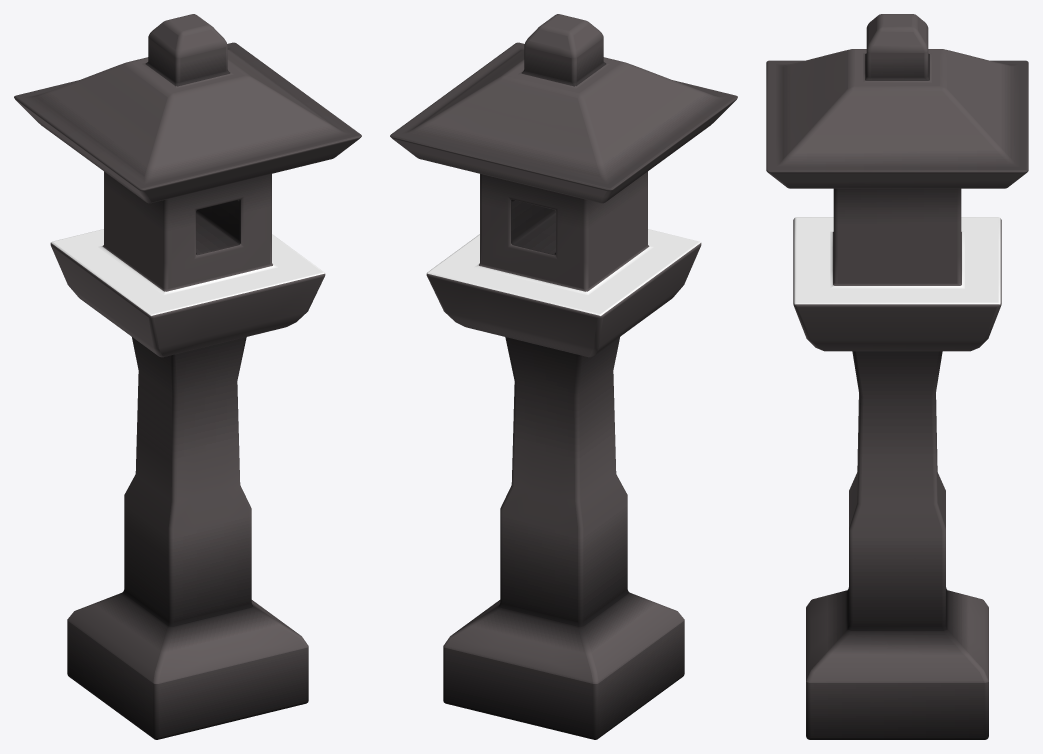
File: stone_lantern2.fbx
3 views of the same model, side by side, from view 1: azimuth 30°, elevation 25°; view 2: azimuth 150°, elevation 25°; view 3: azimuth 270°, elevation 25° (orthographic). The views are drawn at different scales.
Visible parts, largest first — view 1: Cube; view 2: Cube; view 3: Cube.
Boxes of the visible parts, x1,y1,x2,y2 form: Cube: [14, 14, 361, 739]; Cube: [390, 14, 737, 739]; Cube: [766, 14, 1028, 739].
Size of the model in its own units: 107 by 305 by 107.
